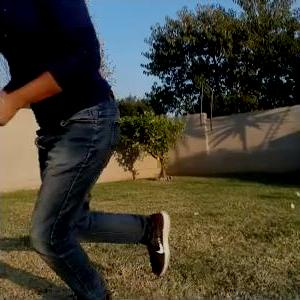follow: (2, 0, 181, 298)
